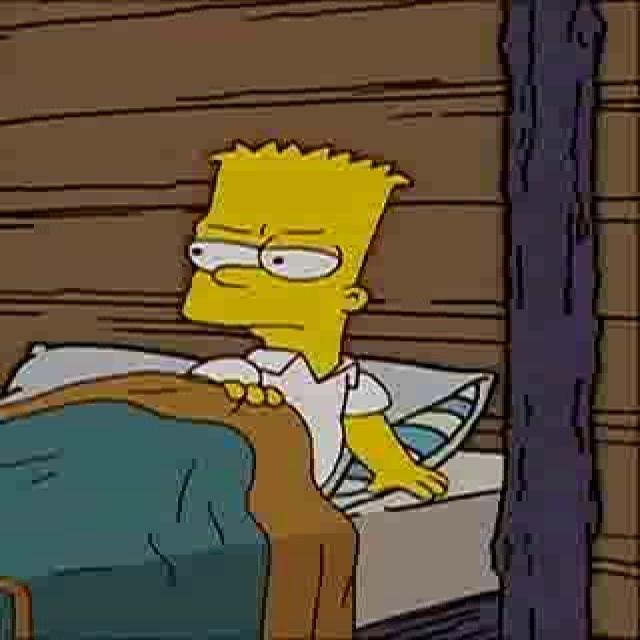Bart Simpson: (181, 139, 403, 360)
